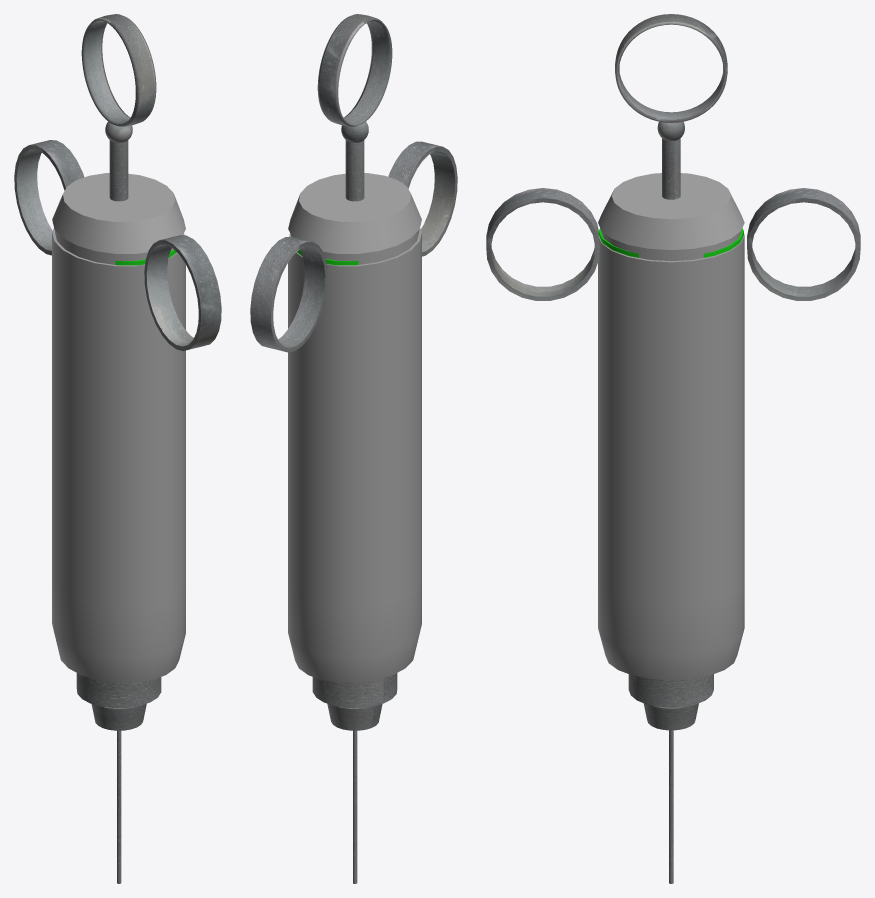
The model's file is syringe.fbx.
The picture shows the model from 3 angles, left to right: view 1: azimuth 30°, elevation 25°; view 2: azimuth 150°, elevation 25°; view 3: azimuth 270°, elevation 25°; orthographic projection.
Parts seen in each view (by area): view 1: glass1, pPipe1, pPipe2, pPipe3, pCylinder2, pCylinder6, pCylinder4, needle, pSphere1; view 2: glass1, pPipe3, pPipe2, pPipe1, pCylinder2, pCylinder6, pCylinder4, needle, pSphere1; view 3: glass1, pPipe3, pPipe1, pPipe2, pCylinder2, pCylinder4, pCylinder6, needle.
Part boxes in pixels (x1=…): glass1: x1=52, y1=173, x2=185, y2=682; pPipe1: x1=144, y1=235, x2=221, y2=350; pPipe2: x1=81, y1=14, x2=156, y2=126; pPipe3: x1=14, y1=140, x2=84, y2=255; pCylinder2: x1=76, y1=673, x2=161, y2=707; pCylinder6: x1=109, y1=140, x2=128, y2=201; pCylinder4: x1=91, y1=704, x2=146, y2=730; needle: x1=117, y1=730, x2=121, y2=883; pSphere1: x1=105, y1=121, x2=132, y2=142; glass1: x1=288, y1=173, x2=421, y2=682; pPipe3: x1=250, y1=237, x2=327, y2=352; pPipe2: x1=317, y1=14, x2=392, y2=126; pPipe1: x1=388, y1=141, x2=457, y2=256; pCylinder2: x1=312, y1=673, x2=397, y2=707; pCylinder6: x1=345, y1=140, x2=364, y2=201; pCylinder4: x1=327, y1=703, x2=382, y2=730; needle: x1=353, y1=730, x2=357, y2=883; pSphere1: x1=341, y1=122, x2=368, y2=142; glass1: x1=598, y1=173, x2=744, y2=680; pPipe3: x1=747, y1=188, x2=860, y2=300; pPipe1: x1=486, y1=188, x2=599, y2=300; pPipe2: x1=615, y1=14, x2=727, y2=122; pCylinder2: x1=628, y1=674, x2=713, y2=707; pCylinder4: x1=643, y1=703, x2=698, y2=730; pCylinder6: x1=662, y1=138, x2=680, y2=199; needle: x1=669, y1=730, x2=673, y2=883.
Bounding box in the file's own units: 1.25 × 9.16 × 3.59.
4 materials, 1 textured.
